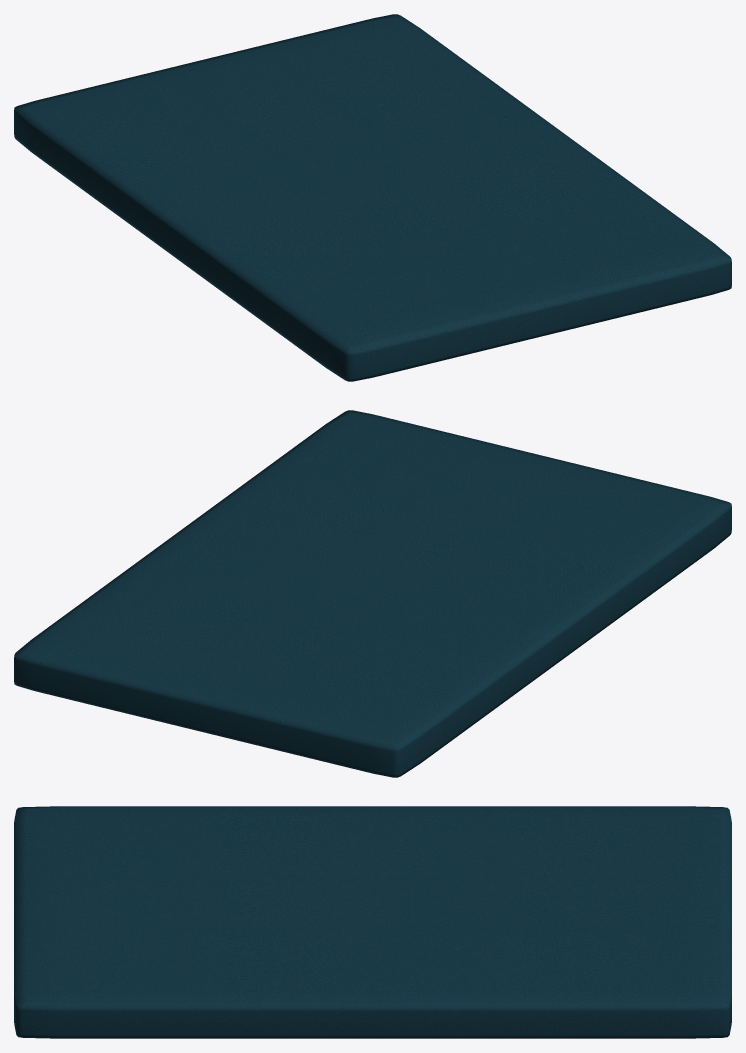
File: mesh_mate.FBX
3 views of the same model, one above another, from view 1: azimuth 30°, elevation 25°; view 2: azimuth 150°, elevation 25°; view 3: azimuth 270°, elevation 25° (orthographic). The views are drawn at different scales.
Visible parts, largest first — view 1: mesh_mate; view 2: mesh_mate; view 3: mesh_mate.
Part boxes in pixels (box(x1,y1,x2,y2)): mesh_mate: box(14, 14, 731, 381); mesh_mate: box(14, 410, 731, 777); mesh_mate: box(14, 806, 731, 1038).
Bounding box in the file's own units: 0.7919 × 0.0701 × 1.19.
1 material, 1 textured.
